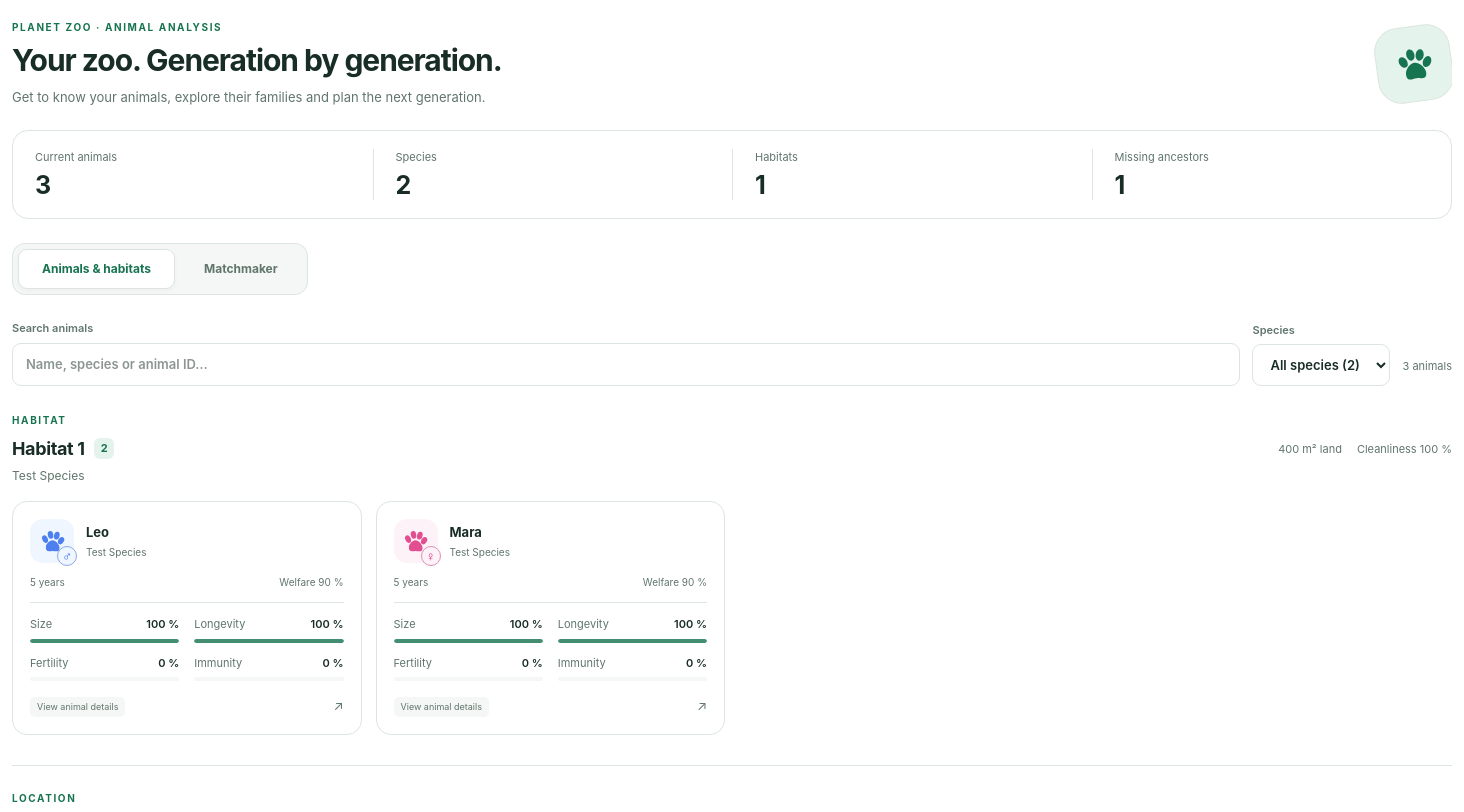
Planet Zoo explorer › opens pedigree and genes, marks missing records, and escapes back to the list
Click the button with aria-label "Mara, Test Species, Open details".
click(550, 618)  # box [376,501,725,734]
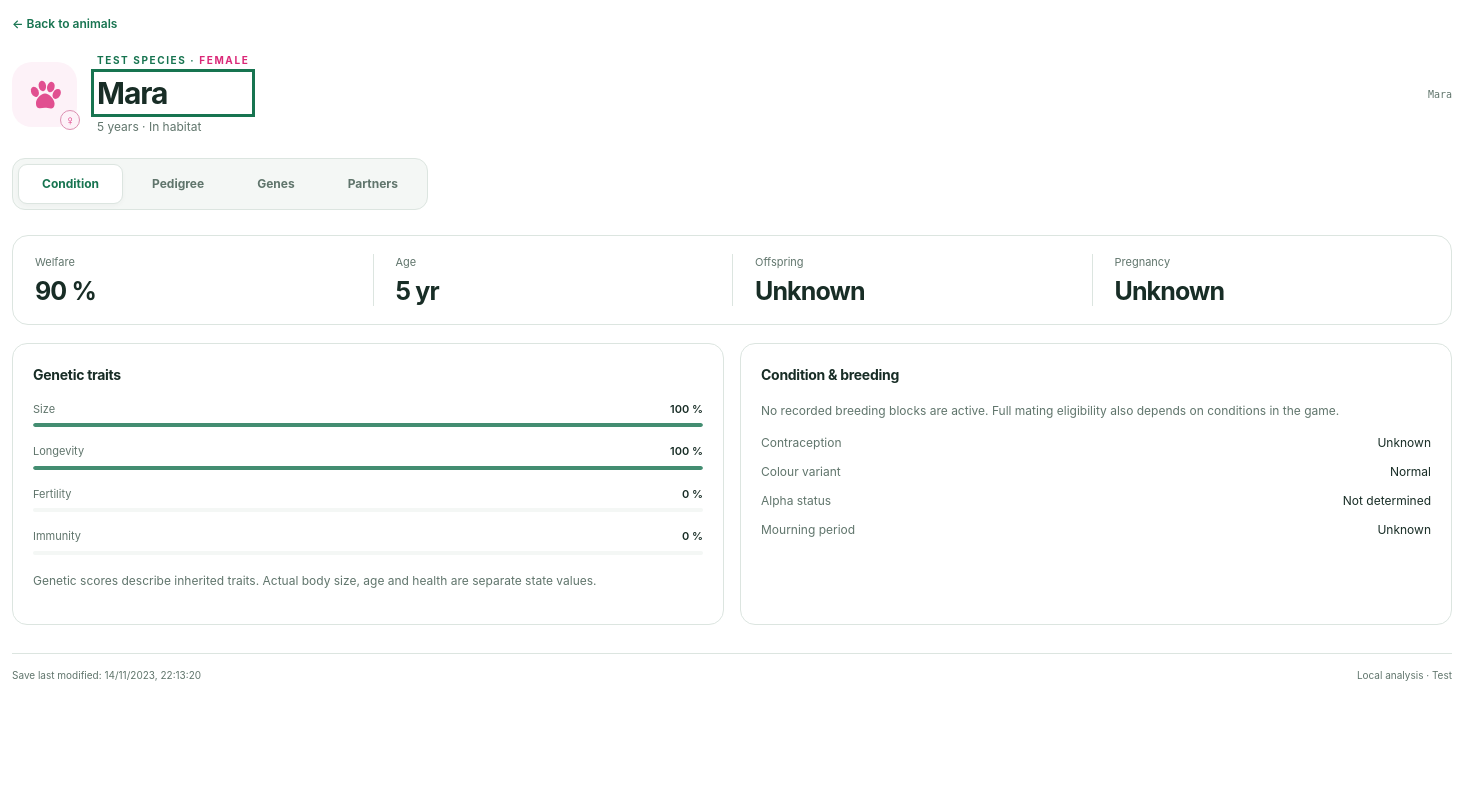
Click the tab "Pedigree".
click(178, 184)  # box [128,164,228,204]
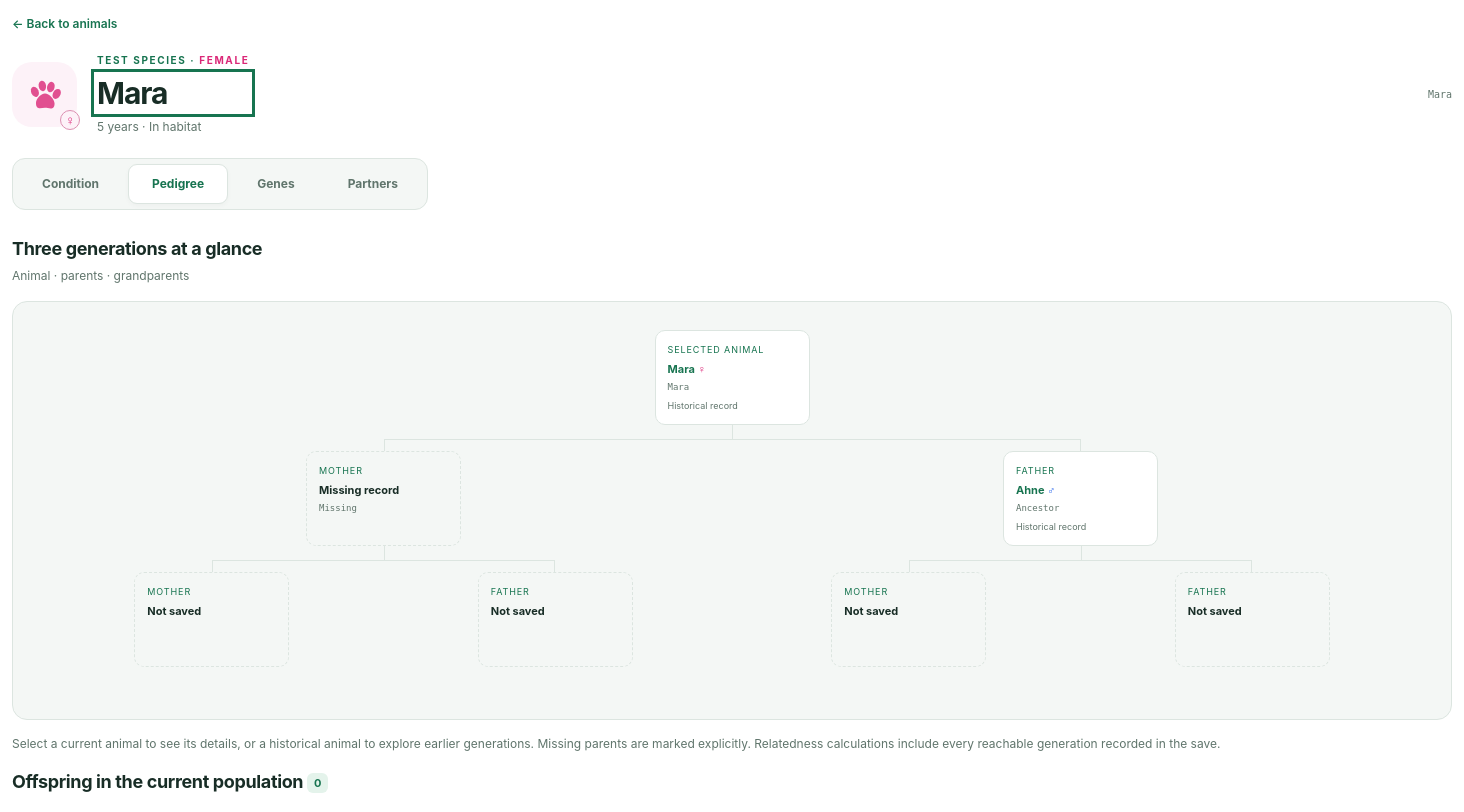
Now the text "Missing record" is shown, box [319,482,399,496]
Now the text "Historical record" below "Selected animal" is shown, box [668,400,738,410]
Click the button "Ahne ♂".
click(1080, 490)  # box [1016,482,1145,498]
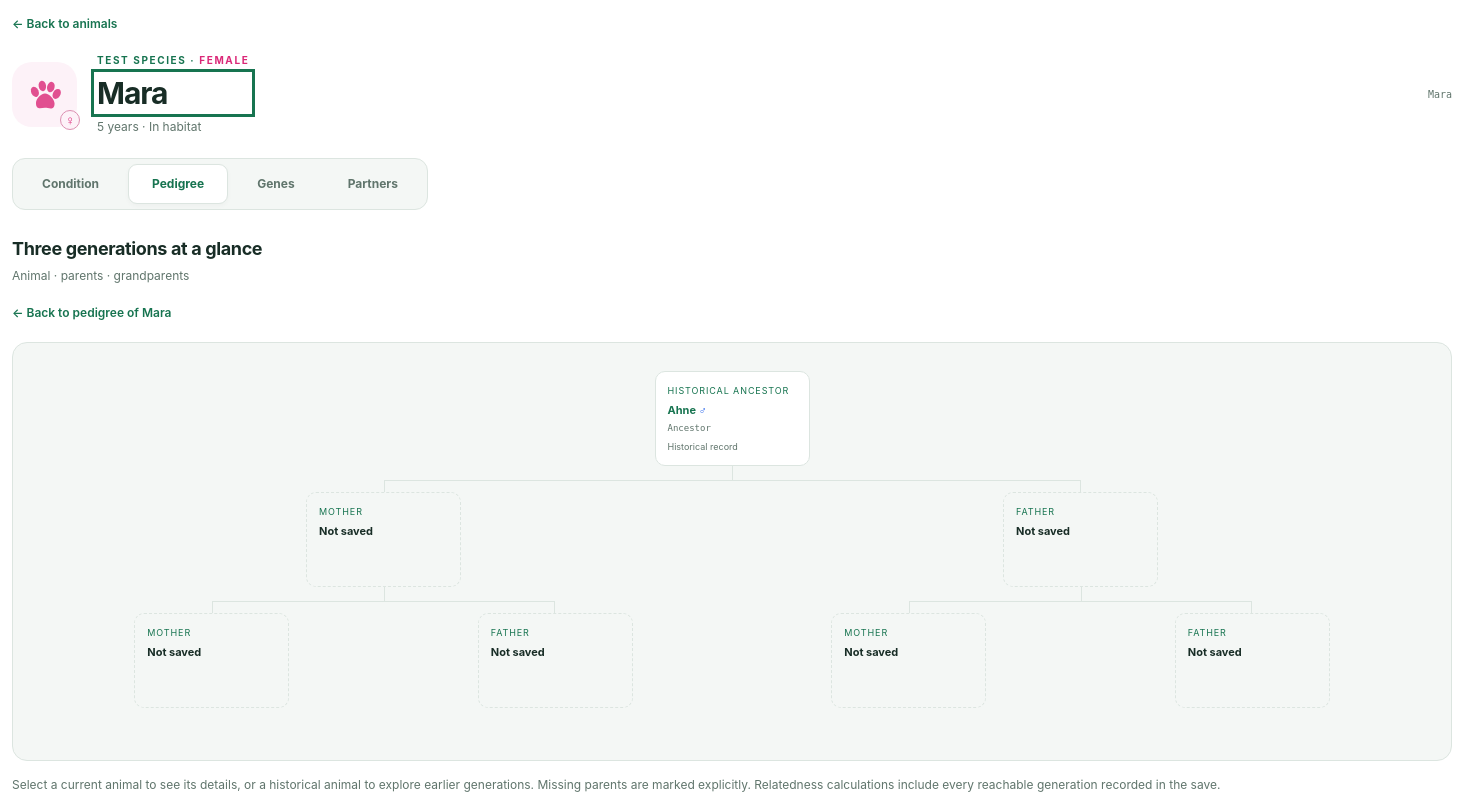
Now the button "← Back to pedigree of Mara" is shown, box [12,304,172,322]
Click the tab "Genes".
click(276, 184)  # box [233,164,319,204]
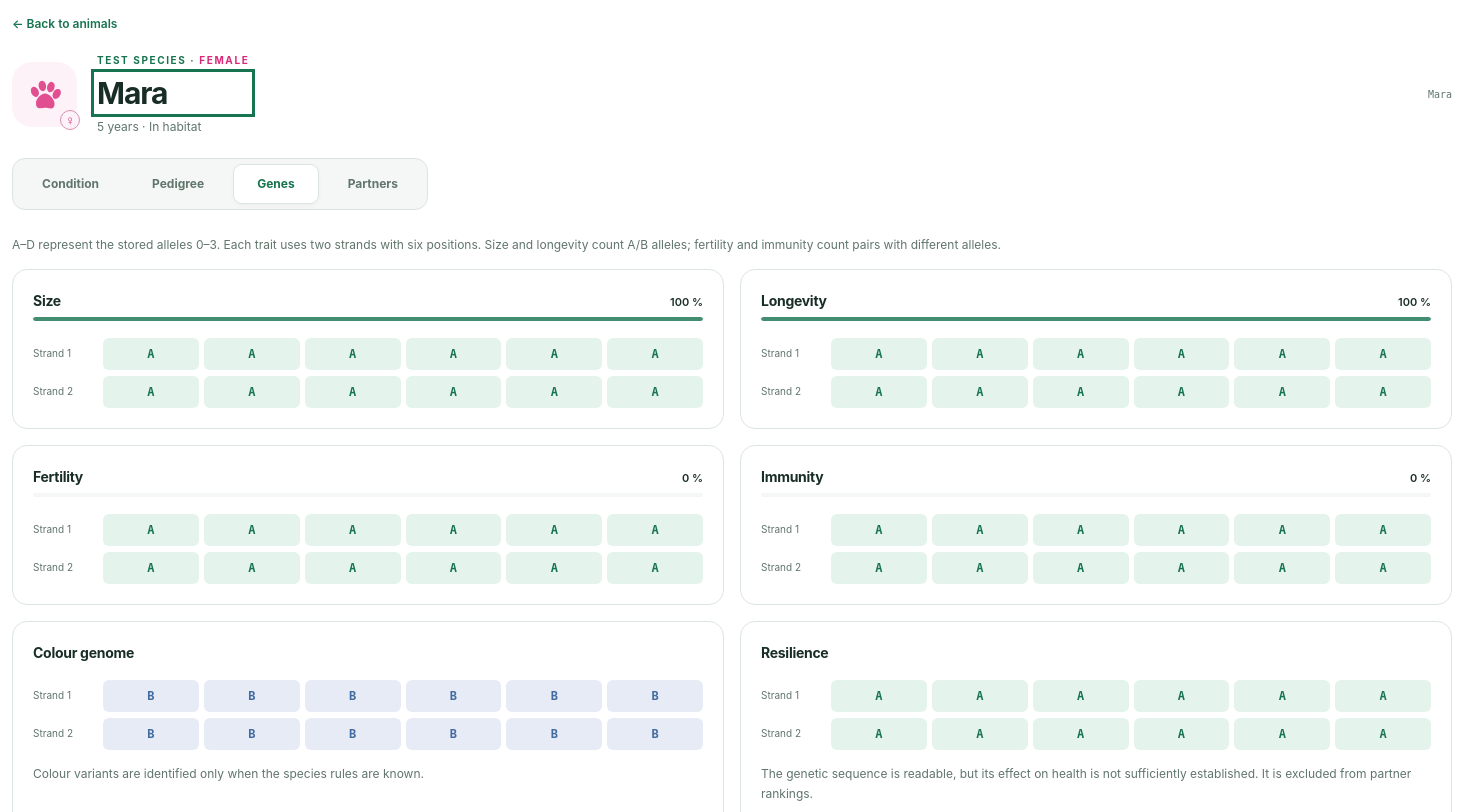
Now the heading "Colour genome" is shown, box [33,644,134,661]
Press Escape in the tab "Genes", box [233,164,319,204]
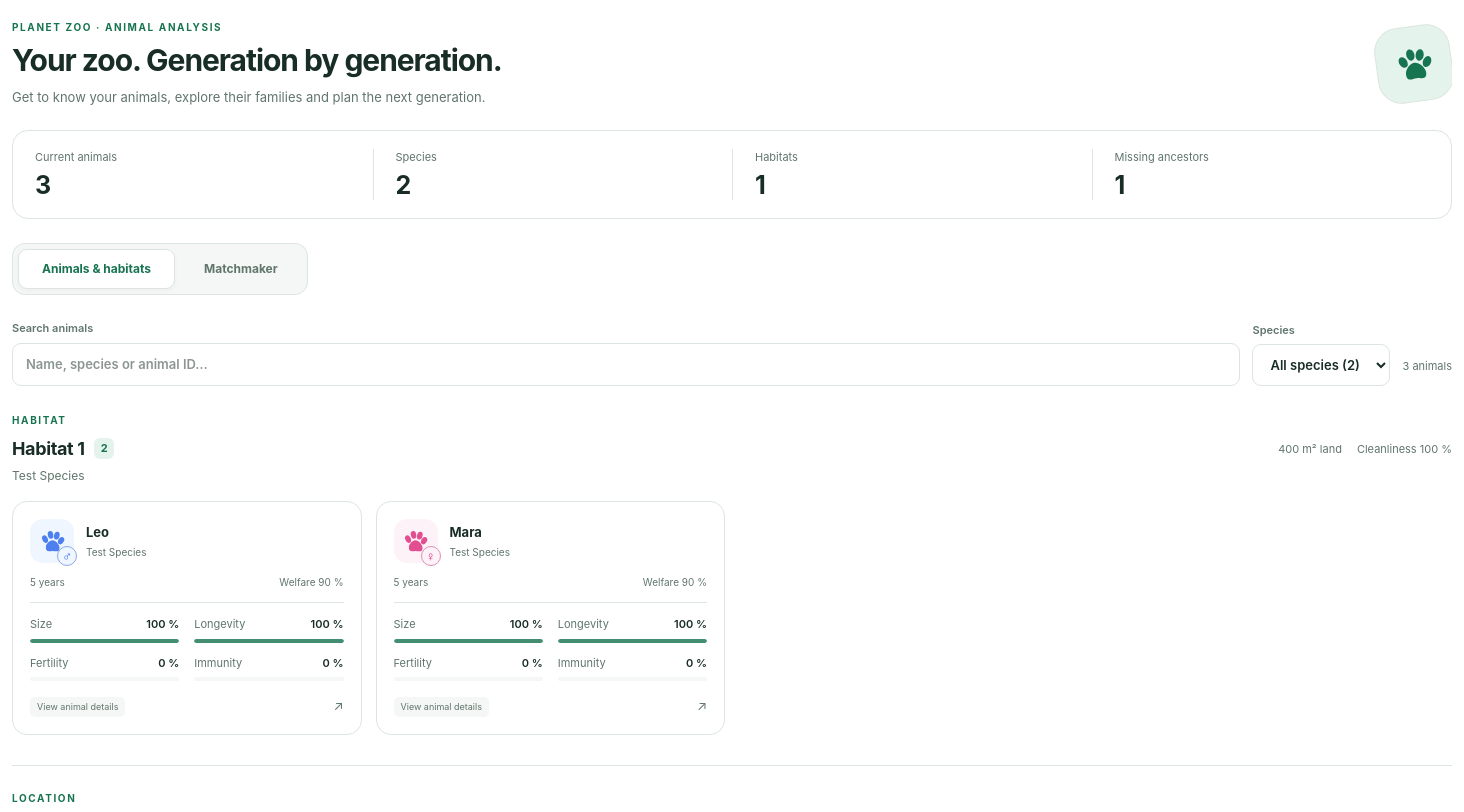
Now the search field is shown, box [12,342,1240,386]
